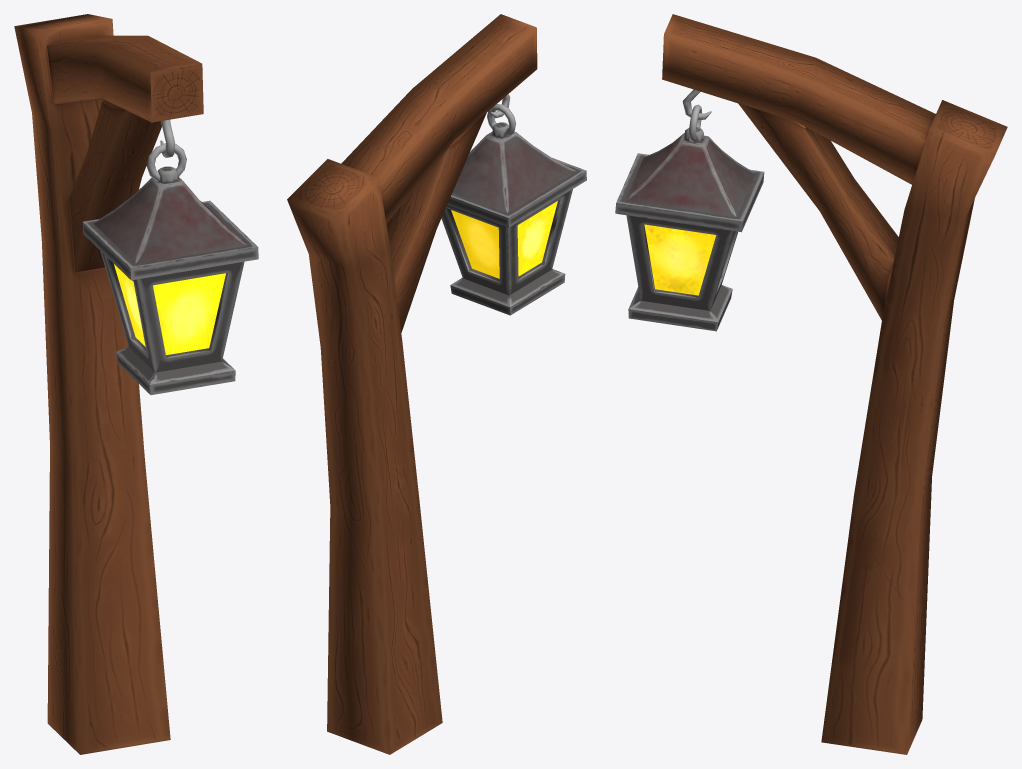
Rendered from stylized_lowpoly_lamp.glb.
The picture shows the model from 3 angles, left to right: view 1: azimuth 30°, elevation 25°; view 2: azimuth 150°, elevation 25°; view 3: azimuth 270°, elevation 25°; orthographic projection. The views are drawn at different scales.
Visible parts, largest first — view 1: fonarbark_low, lighbase_low, fonarbark3_low, fonarbark2_low, ring_low; view 2: fonarbark_low, lighbase_low, fonarbark3_low, fonarbark2_low; view 3: fonarbark_low, lighbase_low, fonarbark3_low, fonarbark2_low.
Part boxes in pixels (x1=…): fonarbark_low: x1=14, y1=14, x2=170, y2=754; lighbase_low: x1=82, y1=177, x2=258, y2=394; fonarbark3_low: x1=47, y1=35, x2=203, y2=122; fonarbark2_low: x1=69, y1=99, x2=161, y2=272; ring_low: x1=146, y1=143, x2=186, y2=181; fonarbark_low: x1=287, y1=159, x2=442, y2=754; lighbase_low: x1=441, y1=131, x2=586, y2=315; fonarbark3_low: x1=341, y1=14, x2=537, y2=223; fonarbark2_low: x1=386, y1=113, x2=486, y2=332; fonarbark_low: x1=821, y1=100, x2=1007, y2=754; lighbase_low: x1=615, y1=132, x2=764, y2=331; fonarbark3_low: x1=662, y1=14, x2=935, y2=184; fonarbark2_low: x1=738, y1=103, x2=898, y2=320.
Size of the model in its own units: 1.92 by 8.98 by 4.62.
2 materials, 2 textured.
